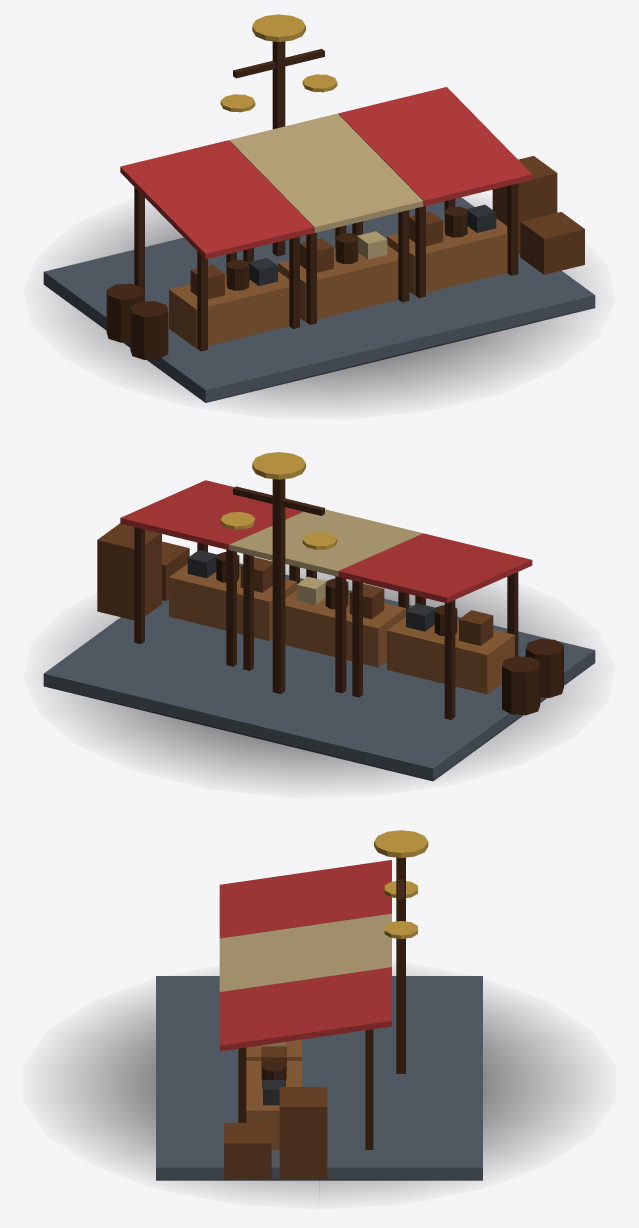
The model's file is market_t1.glb.
The picture shows the model from 3 angles, top to bottom: view 1: azimuth 30°, elevation 25°; view 2: azimuth 150°, elevation 25°; view 3: azimuth 270°, elevation 25°; orthographic projection.
Visible parts, largest first — view 1: market_t1; view 2: market_t1; view 3: market_t1.
Part boxes in pixels (x1,y1,x2,y2): market_t1: (43,14,595,403); market_t1: (43,452,595,782); market_t1: (60,830,578,1198).
Bounding box in the file's own units: 7.75 × 3.37 × 7.67.
